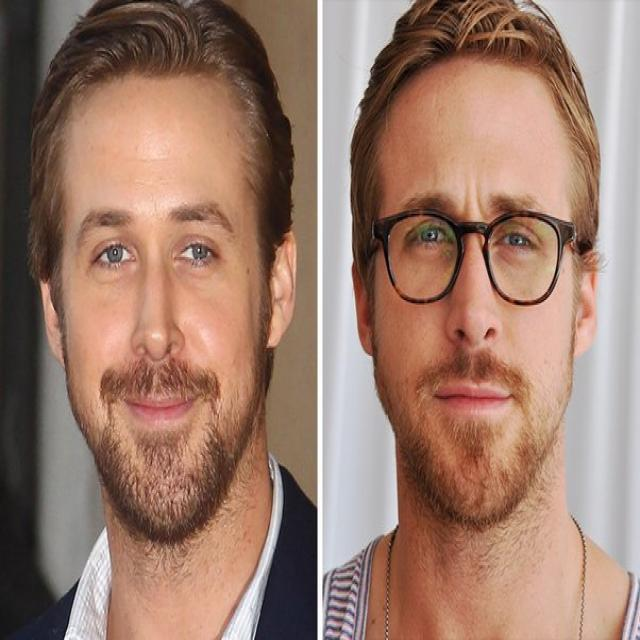Glasses: (370, 204, 587, 310)
